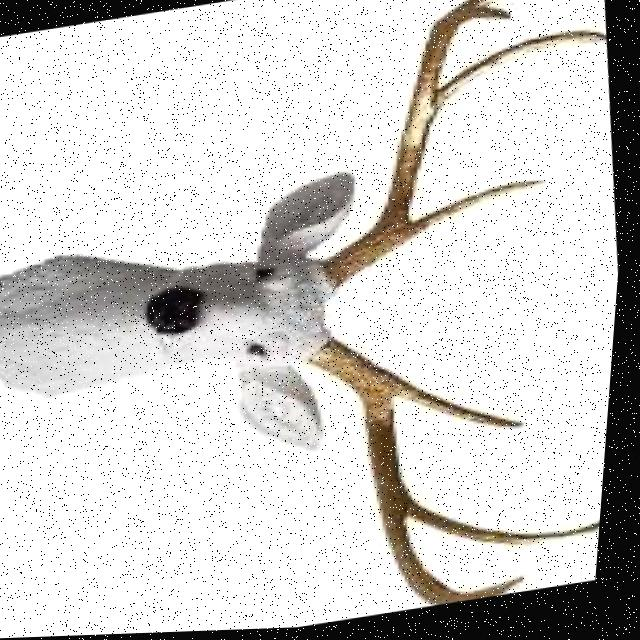L-F: (326, 8, 513, 294)
L-G1: (411, 184, 549, 239)
L-G2: (434, 35, 607, 113)
R-F: (308, 339, 535, 609)
R-G1: (399, 380, 533, 433)
R-G2: (413, 499, 608, 551)
